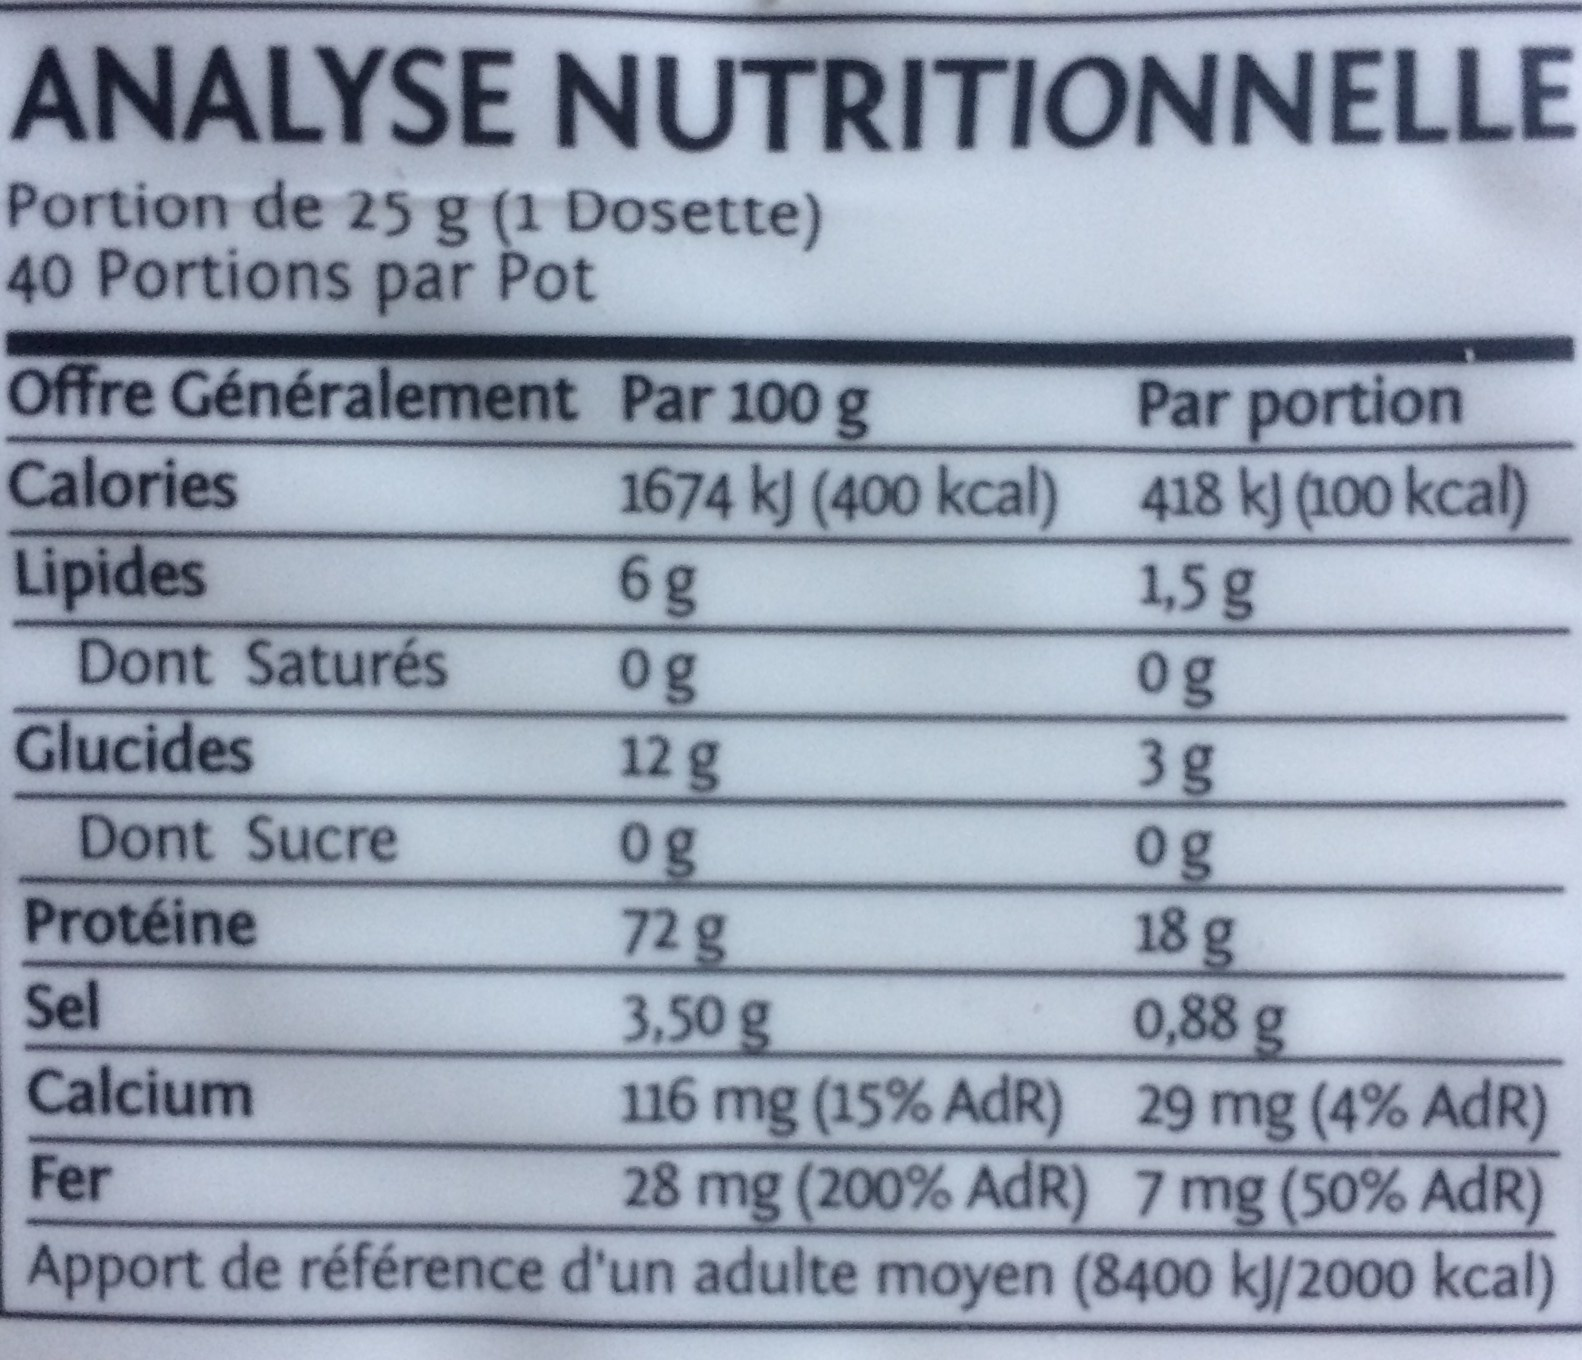column: (5, 335, 595, 1224), (605, 339, 1121, 1238), (1133, 339, 1573, 1242)
table: (9, 22, 1582, 1313)
